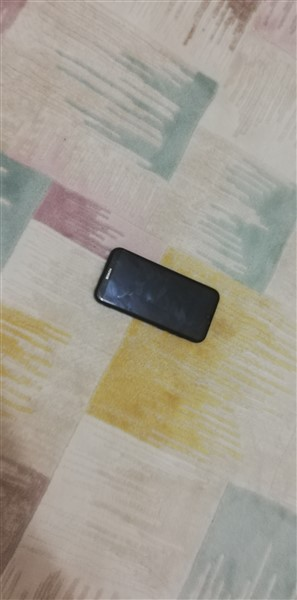telefon: (92, 245, 223, 353)
